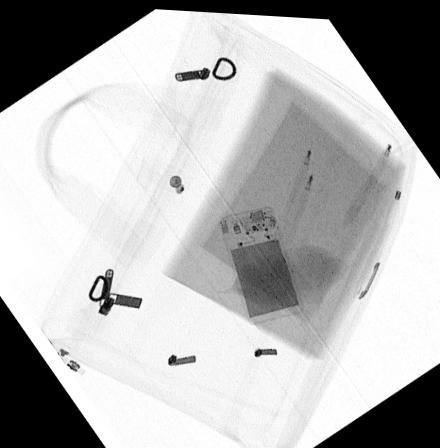Powerbank: (217, 202, 301, 322)
